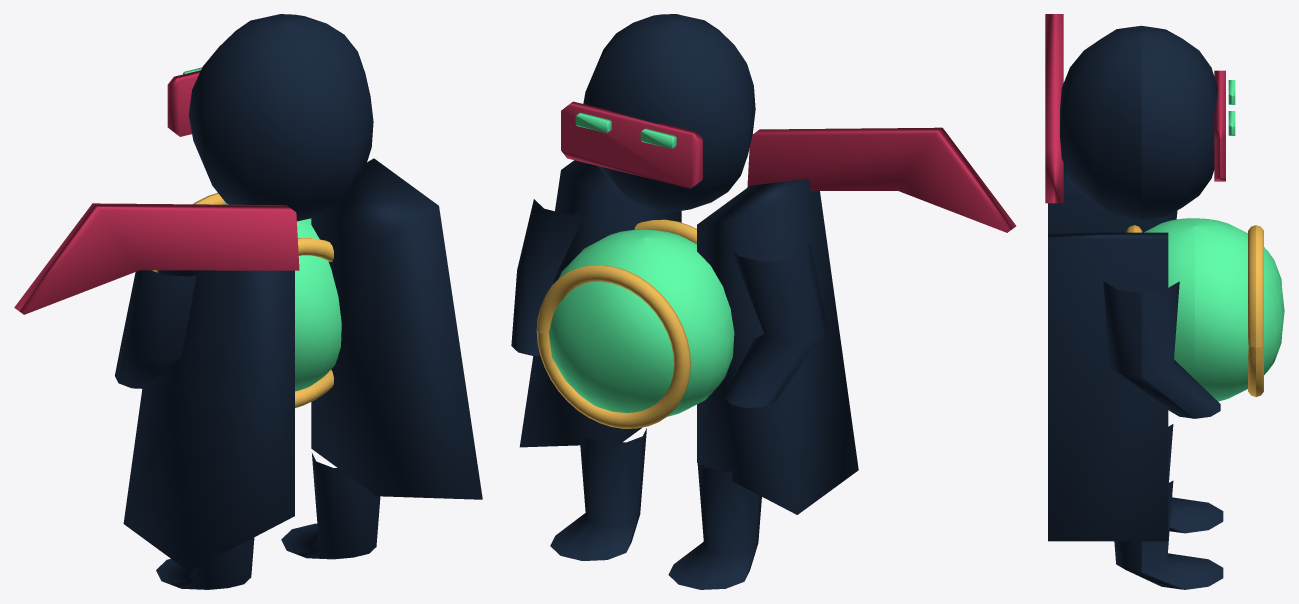
The model's file is hero_ninja.glb.
3 views of the same model, side by side, from view 1: azimuth 30°, elevation 25°; view 2: azimuth 150°, elevation 25°; view 3: azimuth 270°, elevation 25° (orthographic). The views are drawn at different scales.
Visible parts, largest first — view 1: SplitCoat (×2), Skull, Scarf, Boot (×2), Sleeve, GlassCore, Mask, GiltOrbRim; view 2: SplitCoat (×2), GlassCore, Skull, Scarf, Sleeve (×2), Boot (×2), GiltOrbRim (×2), Mask; view 3: SplitCoat (×2), Skull, GlassCore, Sleeve, Boot (×2), Scarf, GiltOrbRim, Mask.
Boxes of the visible parts, left/top/right/bottom form: SplitCoat (×2): left=123, top=158, right=482, bottom=571; Skull: left=189, top=14, right=373, bottom=221; Scarf: left=14, top=203, right=299, bottom=314; Boot (×2): left=156, top=453, right=380, bottom=589; Sleeve: left=115, top=270, right=196, bottom=388; GlassCore: left=156, top=203, right=341, bottom=391; Mask: left=167, top=70, right=200, bottom=136; GiltOrbRim: left=295, top=238, right=333, bottom=407; SplitCoat (×2): left=519, top=160, right=858, bottom=514; GlassCore: left=549, top=229, right=734, bottom=416; Skull: left=583, top=14, right=755, bottom=211; Scarf: left=747, top=127, right=1016, bottom=232; Sleeve (×2): left=511, top=199, right=826, bottom=407; Boot (×2): left=550, top=428, right=761, bottom=589; GiltOrbRim (×2): left=536, top=219, right=696, bottom=428; Mask: left=561, top=101, right=702, bottom=188; SplitCoat (×2): left=1048, top=163, right=1168, bottom=541; Skull: left=1060, top=25, right=1217, bottom=220; GlassCore: left=1144, top=218, right=1284, bottom=401; Sleeve: left=1103, top=281, right=1220, bottom=418; Boot (×2): left=1114, top=424, right=1223, bottom=589; Scarf: left=1045, top=14, right=1063, bottom=203; GiltOrbRim: left=1248, top=225, right=1263, bottom=396; Mask: left=1214, top=70, right=1225, bottom=181.
Size of the model in its own units: 1.47 by 1.65 by 0.698.
